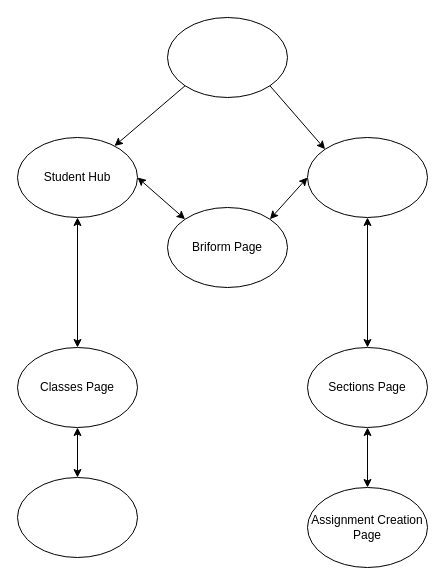
The diagram is 445 pixels wide and 585 high, and some of its shapes have lost their labels. The box of each missing label's shape, as (x1, y1, x2, y2) in pixels:
Assignments: (16, 476, 138, 558)
Register/Login Page: (166, 16, 288, 98)
Teacher Hub: (306, 136, 428, 218)
